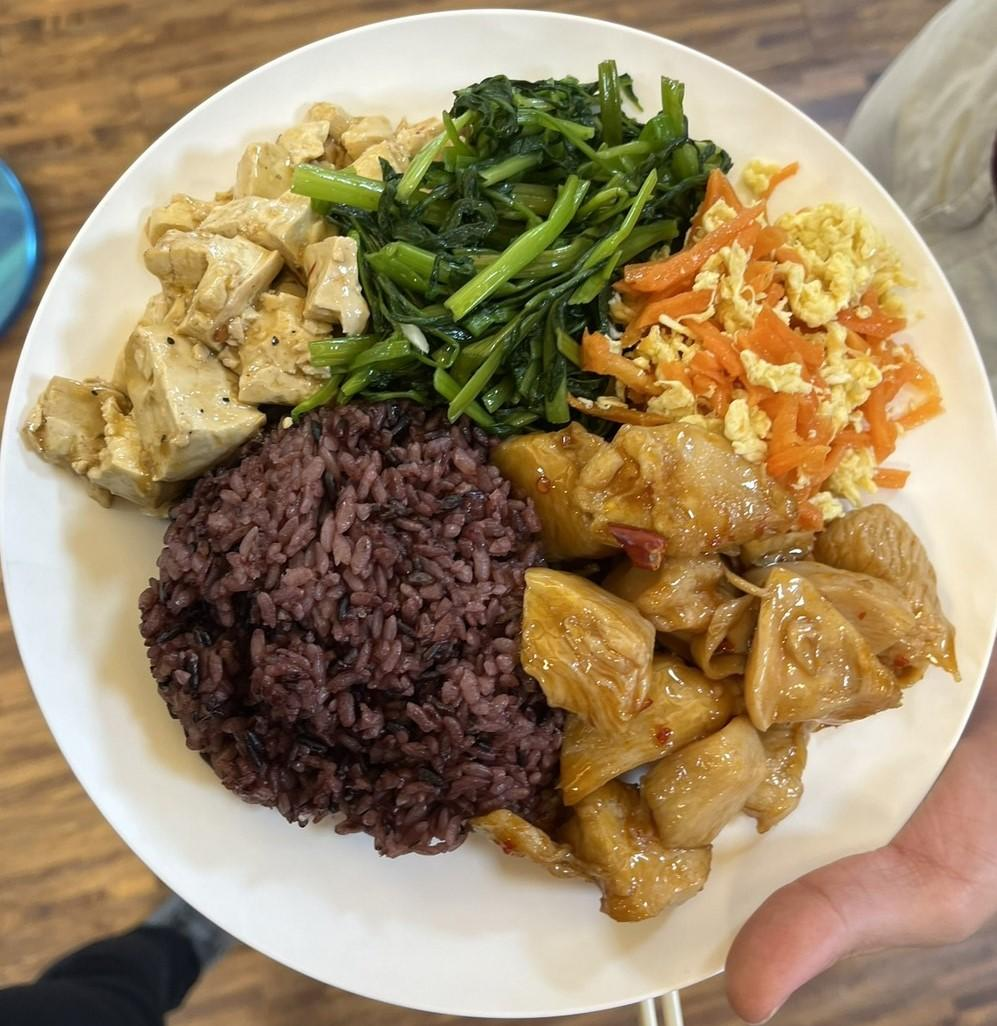big fried chicken leg: (10, 13, 997, 1023)
braised fish: (147, 410, 553, 859)
braised fish fillet: (35, 100, 388, 507), (365, 68, 719, 427), (625, 163, 939, 497)
braised pork: (499, 418, 965, 921)
